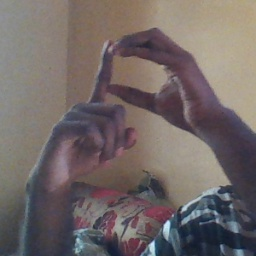P: (61, 26, 208, 166)
